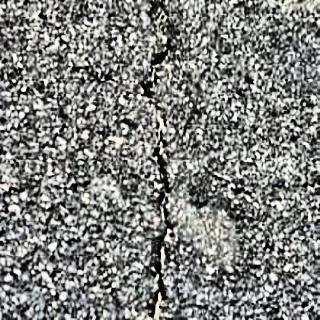crack: (138, 0, 177, 320)
